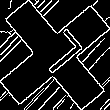L_SW: (26, 27, 84, 83)
